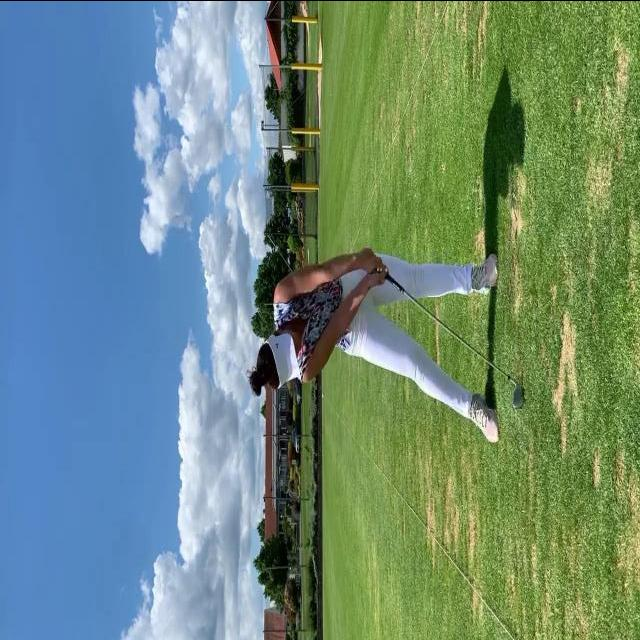golf club-handle: (381, 263, 525, 410)
golf club-head: (513, 382, 525, 406)
